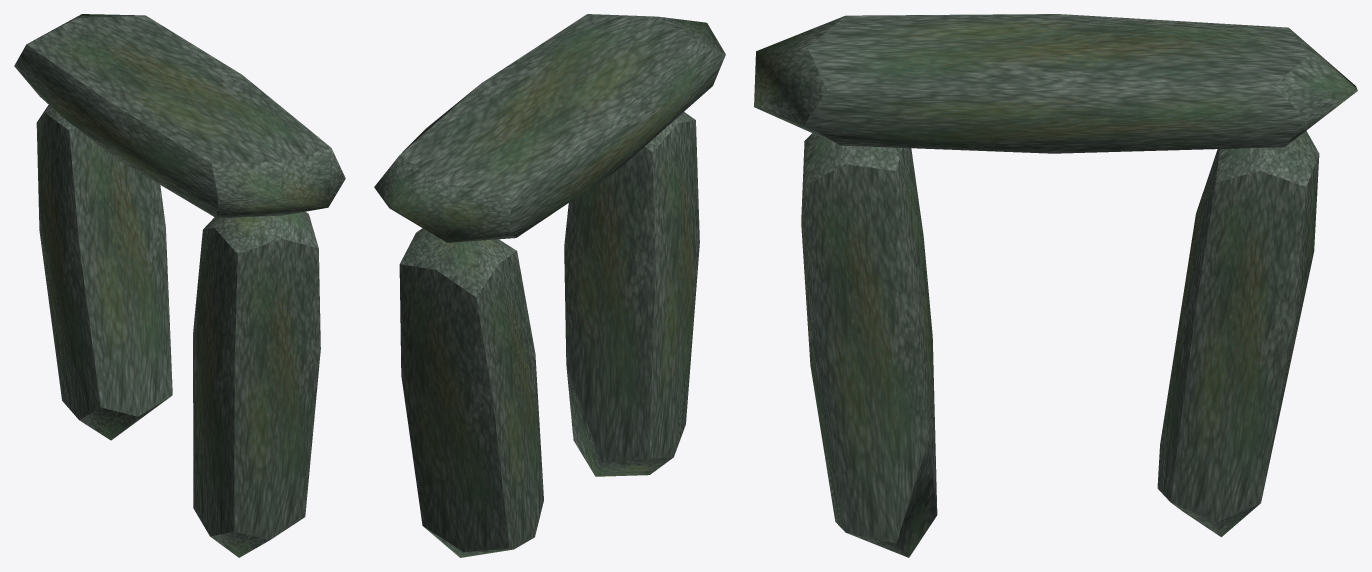
The model's file is ruins02.obj.
The picture shows the model from 3 angles, left to right: view 1: azimuth 30°, elevation 25°; view 2: azimuth 150°, elevation 25°; view 3: azimuth 270°, elevation 25°; orthographic projection. The views are drawn at different scales.
Visible parts, largest first — view 1: Duplicate01, Duplicate02, Box01; view 2: Duplicate02, Duplicate01, Box01; view 3: Duplicate02, Duplicate01, Box01.
Boxes of the visible parts, x1,y1,x2,y2 form: Duplicate01: (193,211,320,557); Duplicate02: (14,14,345,218); Box01: (36,105,172,440); Duplicate02: (374,14,725,242); Duplicate01: (564,112,699,476); Box01: (399,228,543,557); Duplicate02: (754,14,1357,153); Duplicate01: (801,133,937,557); Box01: (1157,130,1319,537).
Size of the model in its own units: 13.69 by 35.46 by 38.35.
